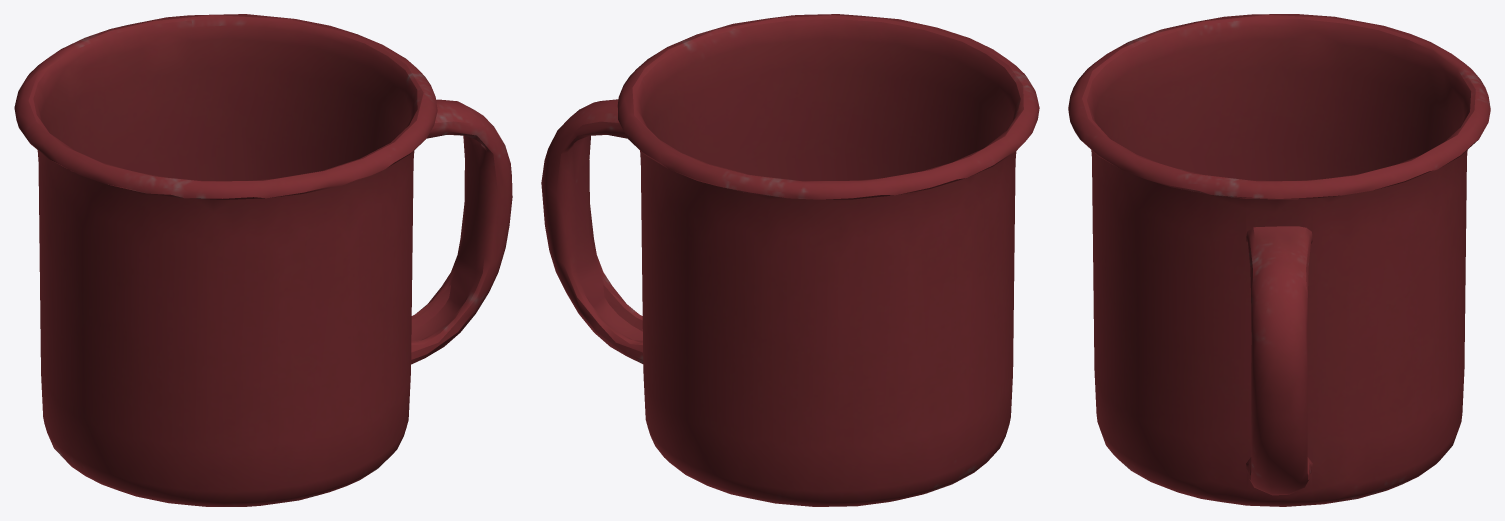
The model's file is dishware_mug_a01.glb.
The picture shows the model from 3 angles, left to right: view 1: azimuth 30°, elevation 25°; view 2: azimuth 150°, elevation 25°; view 3: azimuth 270°, elevation 25°; orthographic projection.
Parts seen in each view (by area): view 1: dishware_mug_a01_lod1; view 2: dishware_mug_a01_lod1; view 3: dishware_mug_a01_lod1.
Boxes of the visible parts, x1,y1,x2,y2 form: dishware_mug_a01_lod1: [14, 14, 512, 506]; dishware_mug_a01_lod1: [541, 14, 1039, 506]; dishware_mug_a01_lod1: [1068, 14, 1490, 506].
Size of the model in its own units: 0.1145 by 0.08 by 0.0903.
Materials: 1 (1 with a texture image).
